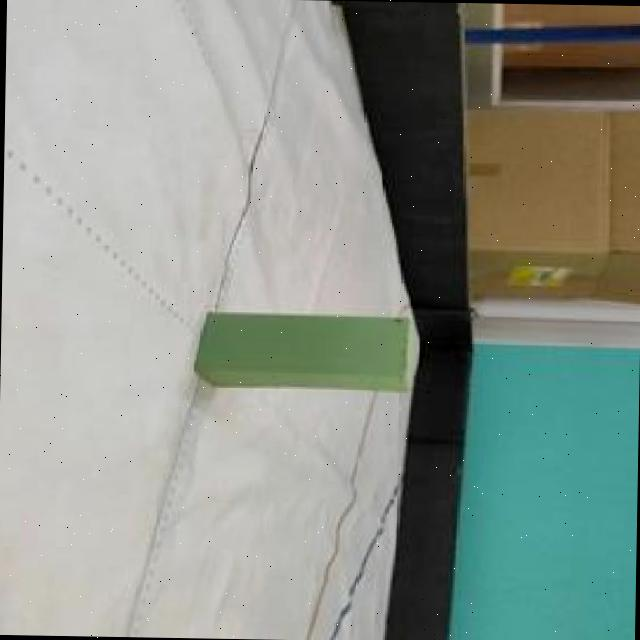greenbox: (192, 310, 420, 396)
